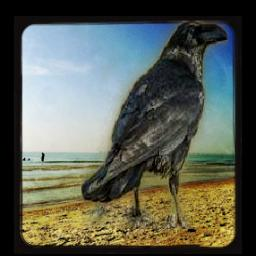Crow: (81, 20, 228, 229)
